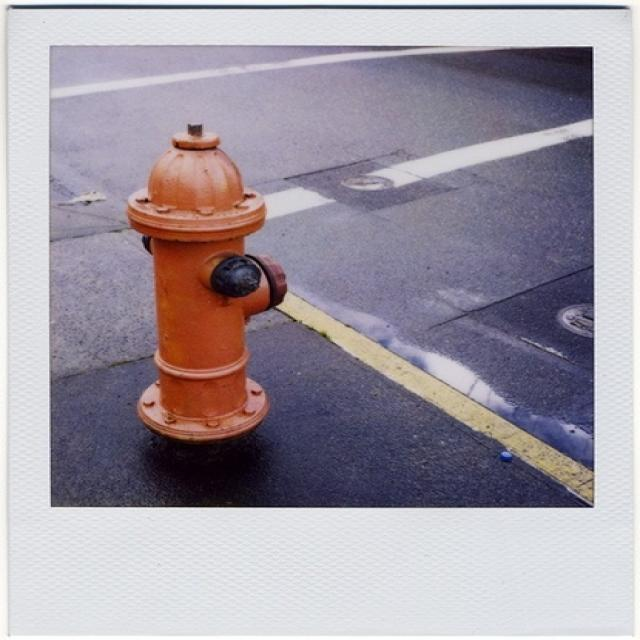fire_hydrant: (58, 74, 374, 474)
